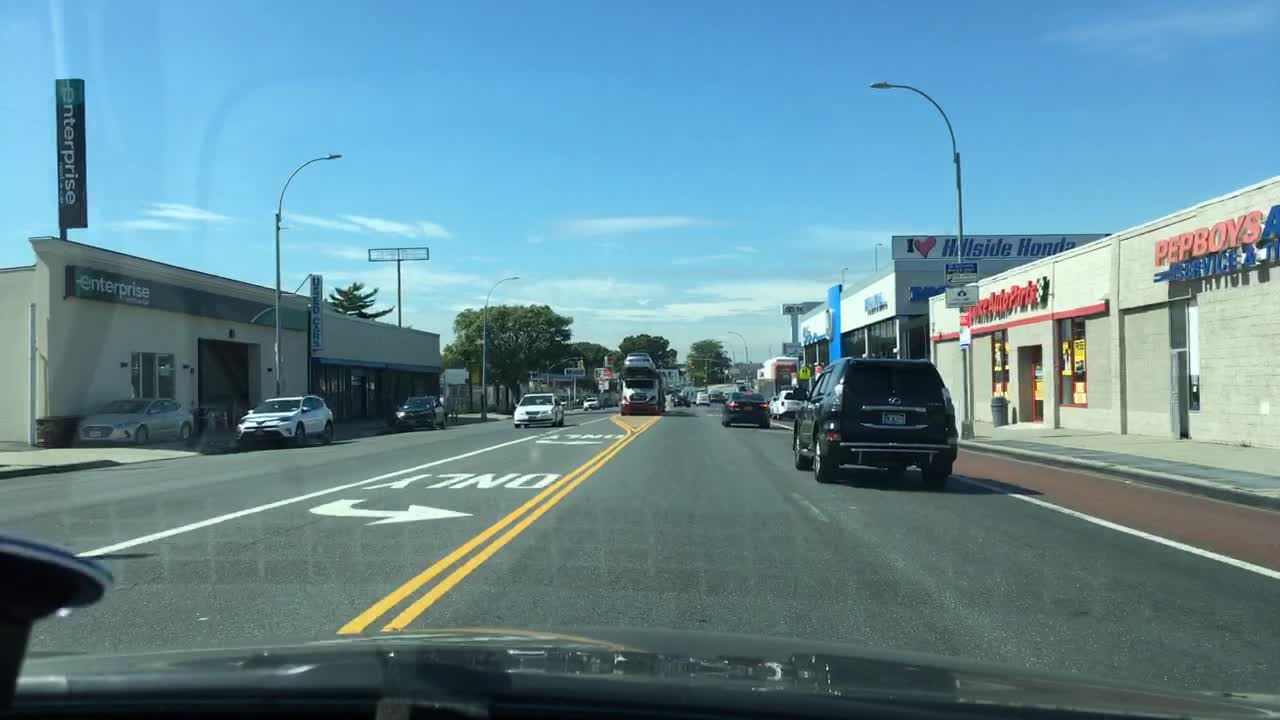car: (789, 354, 957, 486), (76, 395, 195, 449), (233, 393, 334, 449), (386, 390, 450, 429), (719, 388, 771, 430), (511, 393, 565, 428), (773, 391, 806, 422), (619, 349, 655, 370), (693, 385, 712, 408), (670, 391, 692, 408), (580, 395, 599, 412), (766, 395, 779, 417), (707, 390, 725, 403)
traffic sign: (941, 282, 977, 307), (941, 260, 975, 282), (957, 314, 972, 347), (796, 363, 811, 381)
truck: (617, 371, 666, 417), (752, 358, 800, 391), (749, 376, 776, 395), (705, 380, 739, 395), (680, 385, 695, 401)
